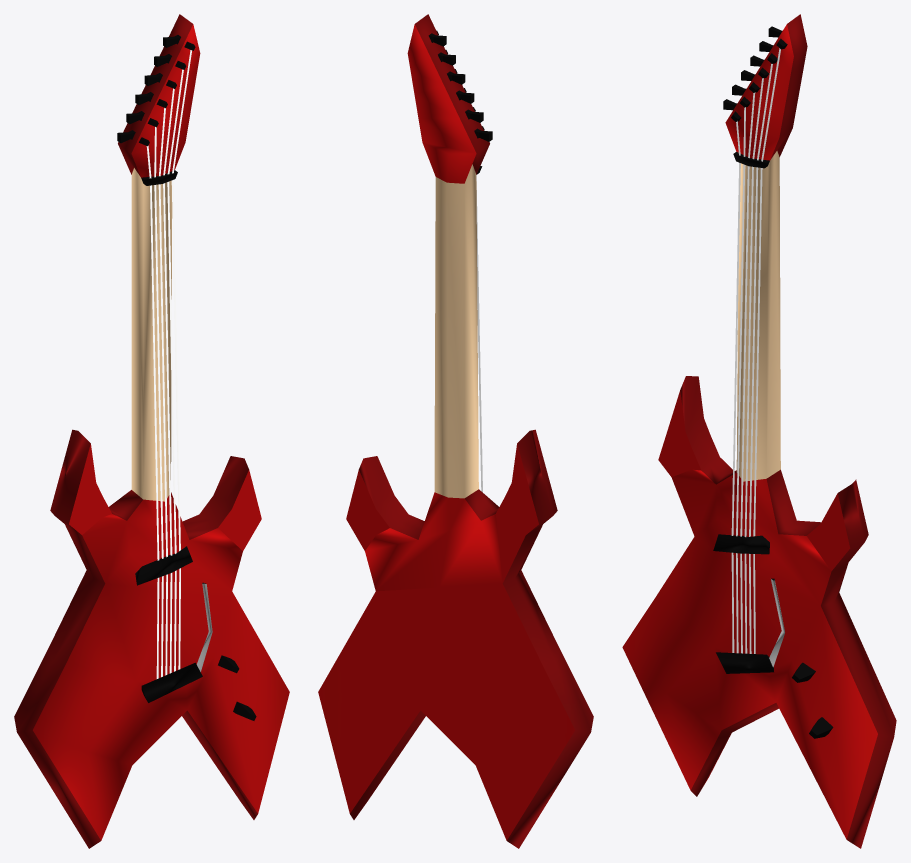
File: GuitarMetalRed.glb
The picture shows the model from 3 angles, left to right: view 1: azimuth 30°, elevation 25°; view 2: azimuth 150°, elevation 25°; view 3: azimuth 330°, elevation 25°; orthographic projection.
Visible parts, largest first — view 1: GuitarMetalRed; view 2: GuitarMetalRed; view 3: GuitarMetalRed.
Part boxes in pixels (<box>): GuitarMetalRed: <box>14,14,289,848</box>; GuitarMetalRed: <box>318,14,593,848</box>; GuitarMetalRed: <box>622,14,896,848</box>.
Bounding box in the file's own units: 0.4798 × 1.39 × 0.1006.
1 material, 1 textured.
